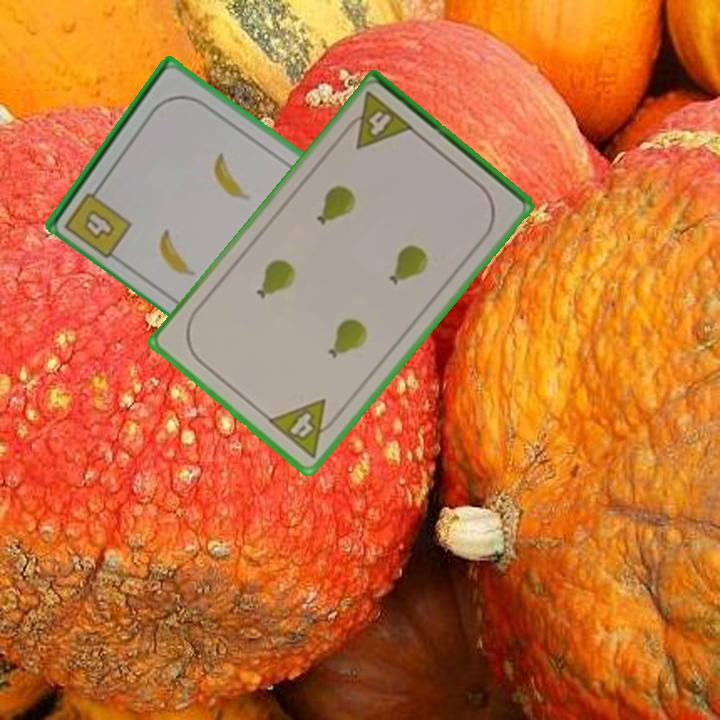4b: (61, 178, 135, 261)
4p: (264, 395, 345, 462), (338, 88, 417, 152)
